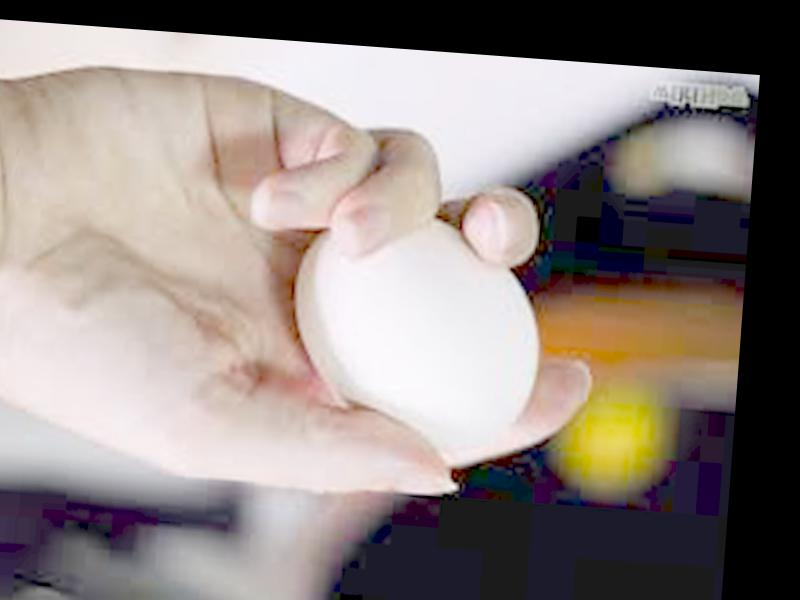Eggs: (287, 212, 550, 455)
